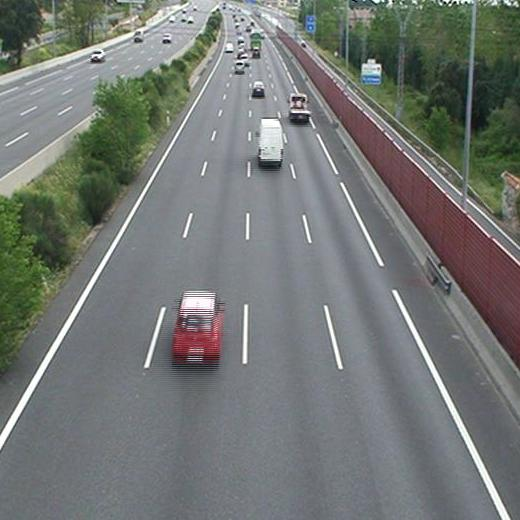bus: (250, 32, 261, 51)
car: (173, 293, 221, 355), (252, 82, 264, 95), (234, 62, 245, 73), (224, 42, 234, 52), (252, 49, 261, 57)
small-truck: (289, 93, 309, 121)
van: (258, 118, 283, 164)
